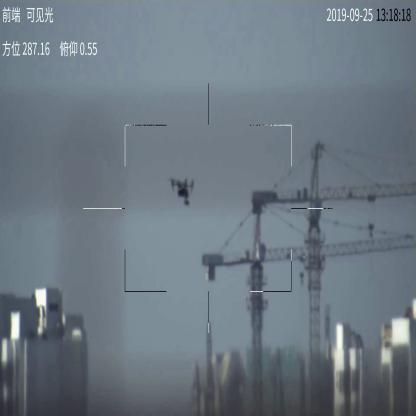uav: (168, 178, 194, 206)
